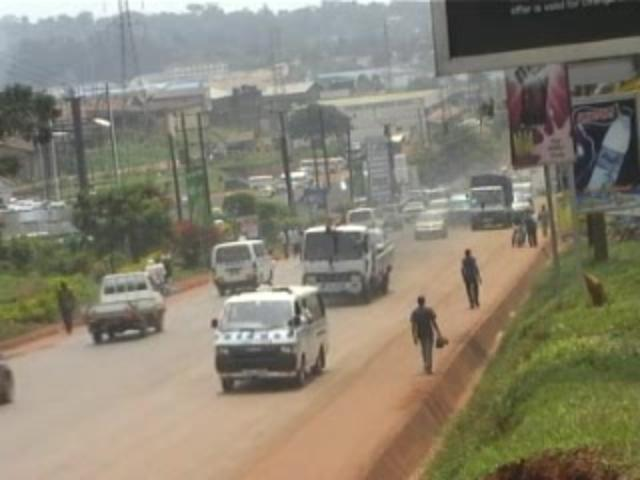car: (419, 212, 447, 239)
truck: (298, 213, 394, 301), (86, 272, 165, 339), (469, 178, 512, 226)
van: (211, 286, 326, 389), (208, 229, 279, 291)
